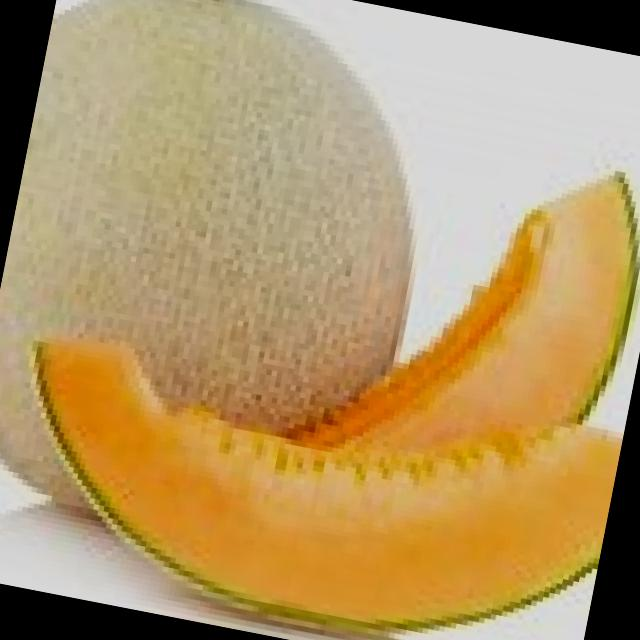cantaloupe: (0, 0, 458, 569), (0, 323, 623, 640)
